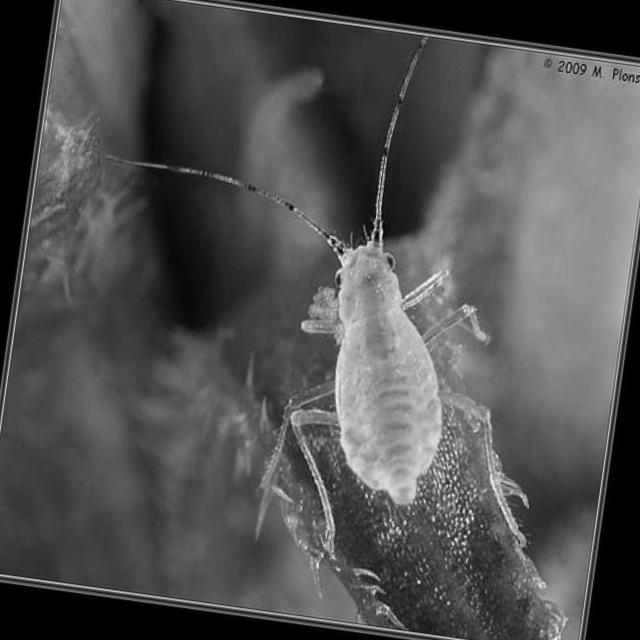Aphids: (116, 132, 594, 574)
